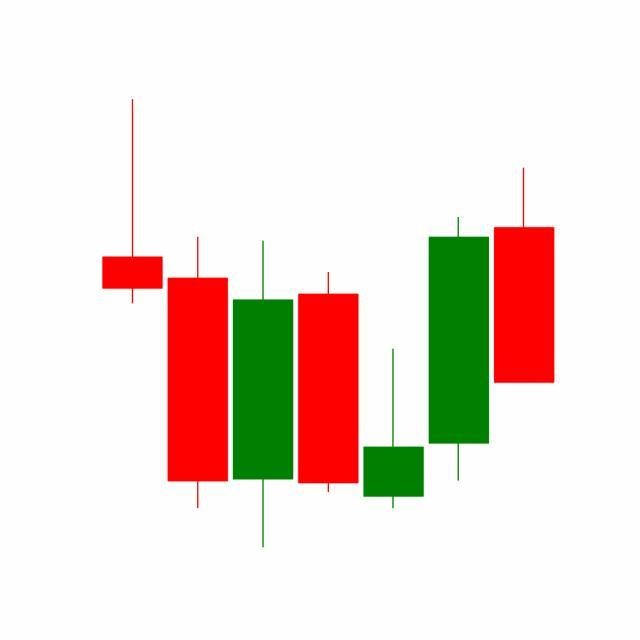Hikkake Pattern: (165, 213, 492, 549)
